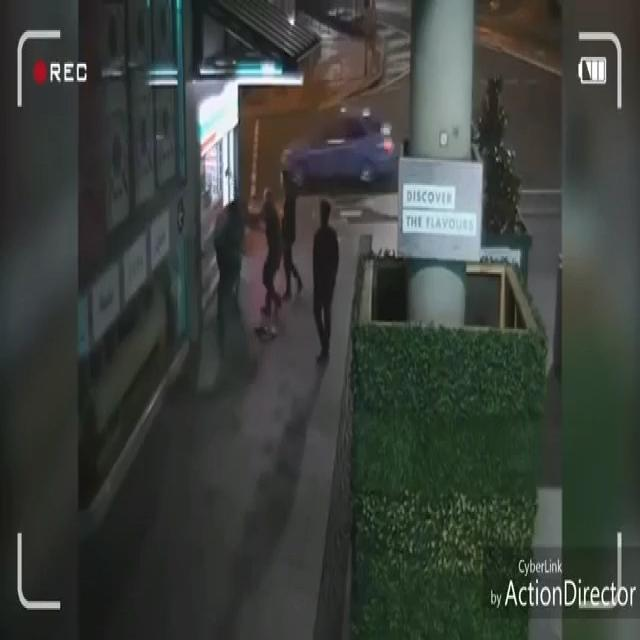fight: (225, 156, 296, 310)
